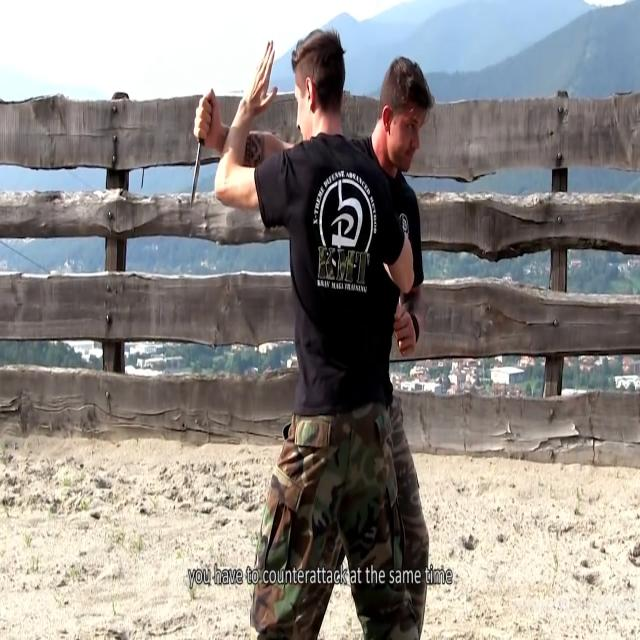knife: (191, 143, 203, 213)
